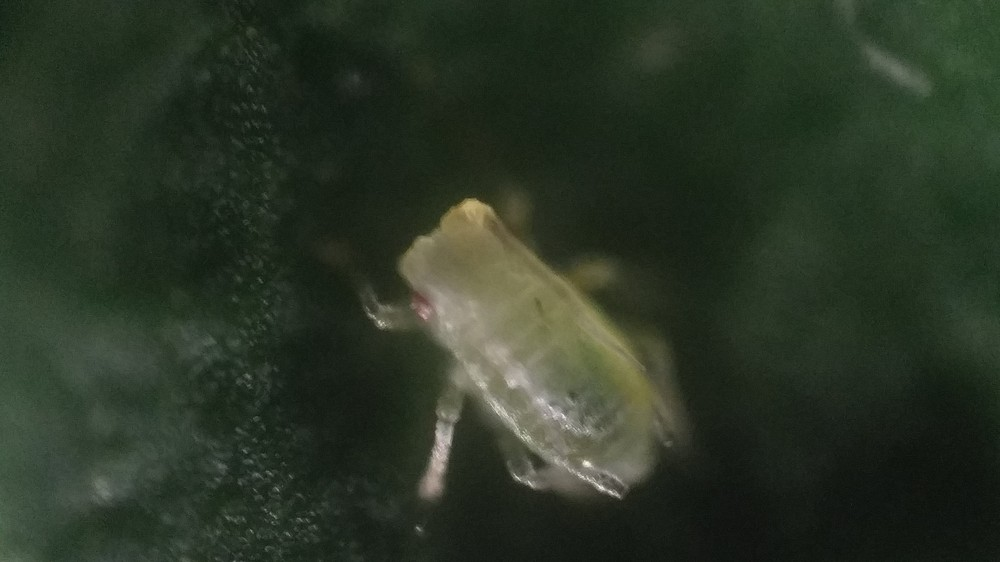Pulgon: (326, 174, 758, 532)
